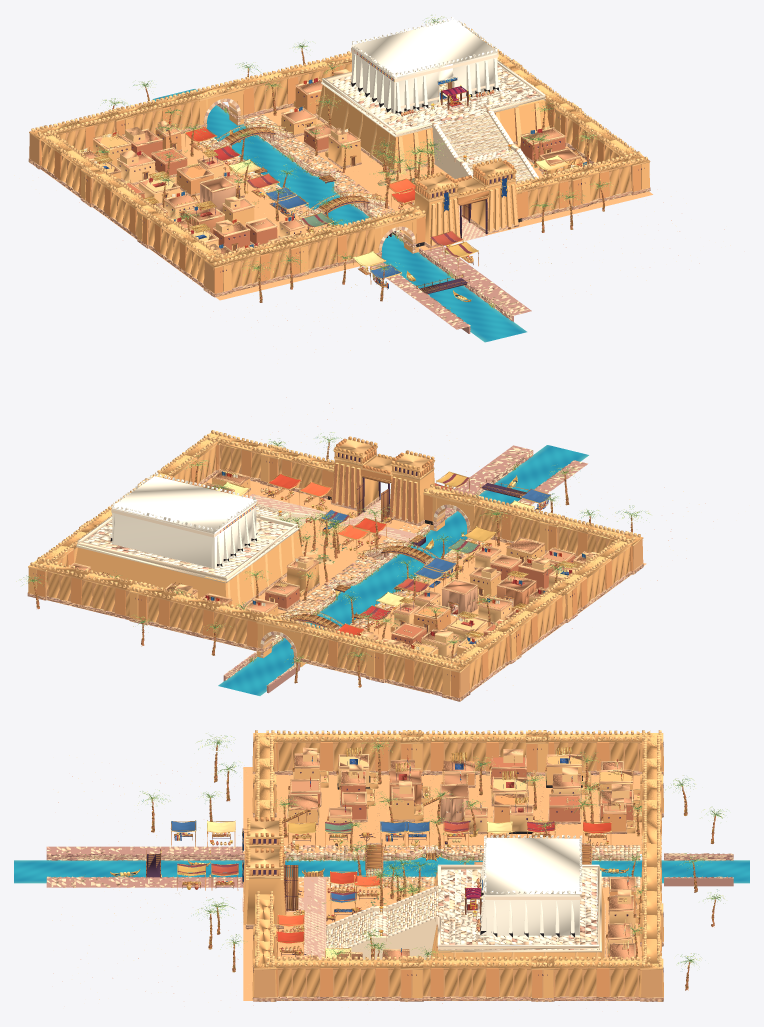
The model's file is uruk_city.glb.
The picture shows the model from 3 angles, top to bottom: view 1: azimuth 30°, elevation 25°; view 2: azimuth 150°, elevation 25°; view 3: azimuth 270°, elevation 25°; orthographic projection. The views are drawn at different scales.
Parts seen in each view (by area): view 1: temple_plaster_buttresses_and_doorway_01, canal_water_surface_01, temple_base_buttressed_platform_01, temple_base_terrace_paving_01, street_city_terrain_02, temple_base_stair_treads_and_landing_01, street_city_terrain_01, gate_tower_fluted_02_buttresses, wall_curtain_12, quay_walkway_pavers_03, temple_base_stair_guard_walls_01, wall_curtain_05 (+55 smaller); view 2: temple_plaster_buttresses_and_doorway_01, canal_water_surface_01, temple_base_buttressed_platform_01, street_city_terrain_02, temple_base_terrace_paving_01, street_city_terrain_01, wall_curtain_15, wall_curtain_13, wall_curtain_12, gate_tower_fluted_01_buttresses, gate_tower_fluted_02_buttresses, wall_curtain_11 (+56 smaller); view 3: street_city_terrain_01, temple_plaster_buttresses_and_doorway_01, canal_water_surface_01, temple_base_terrace_paving_01, street_city_terrain_02, temple_base_buttressed_platform_01, temple_base_stair_treads_and_landing_01, temple_base_stair_guard_walls_01, wall_curtain_25, wall_curtain_27, wall_curtain_28, wall_curtain_24 (+60 smaller).
Boxes of the visible parts, box(x1,y1,x2,y2) form: temple_plaster_buttresses_and_doorway_01: box(350, 17, 498, 115); canal_water_surface_01: box(152, 89, 526, 342); temple_base_buttressed_platform_01: box(316, 70, 549, 174); temple_base_terrace_paving_01: box(322, 60, 545, 134); street_city_terrain_02: box(244, 106, 652, 250); temple_base_stair_treads_and_landing_01: box(438, 113, 534, 183); street_city_terrain_01: box(43, 133, 360, 300); gate_tower_fluted_02_buttresses: box(470, 177, 519, 233); wall_curtain_12: box(236, 69, 288, 118); quay_walkway_pavers_03: box(424, 246, 531, 315); temple_base_stair_guard_walls_01: box(432, 108, 538, 178); wall_curtain_05: box(516, 173, 559, 221); temple_plaster_buttresses_and_doorway_01: box(111, 472, 257, 568); canal_water_surface_01: box(218, 445, 588, 695); temple_base_buttressed_platform_01: box(75, 517, 302, 608); street_city_terrain_02: box(48, 477, 429, 651); temple_base_terrace_paving_01: box(77, 515, 298, 580); street_city_terrain_01: box(301, 539, 646, 694); wall_curtain_15: box(81, 570, 133, 619); wall_curtain_13: box(169, 591, 221, 640); wall_curtain_12: box(213, 602, 264, 650); gate_tower_fluted_01_buttresses: box(389, 468, 434, 525); gate_tower_fluted_02_buttresses: box(331, 455, 379, 511); wall_curtain_11: box(299, 623, 344, 670); street_city_terrain_01: box(243, 767, 641, 853); temple_plaster_buttresses_and_doorway_01: box(481, 835, 582, 937); canal_water_surface_01: box(14, 856, 749, 883); temple_base_terrace_paving_01: box(437, 864, 599, 949); street_city_terrain_02: box(243, 877, 641, 1000); temple_base_buttressed_platform_01: box(430, 868, 605, 959); temple_base_stair_treads_and_landing_01: box(326, 890, 438, 949); temple_base_stair_guard_walls_01: box(326, 885, 438, 959); wall_curtain_25: box(319, 956, 375, 1000); wall_curtain_27: box(430, 956, 486, 1000); wall_curtain_28: box(485, 956, 539, 1000); wall_curtain_24: box(264, 956, 320, 1000).
Size of the model in its own units: 113 by 19.09 by 135.
